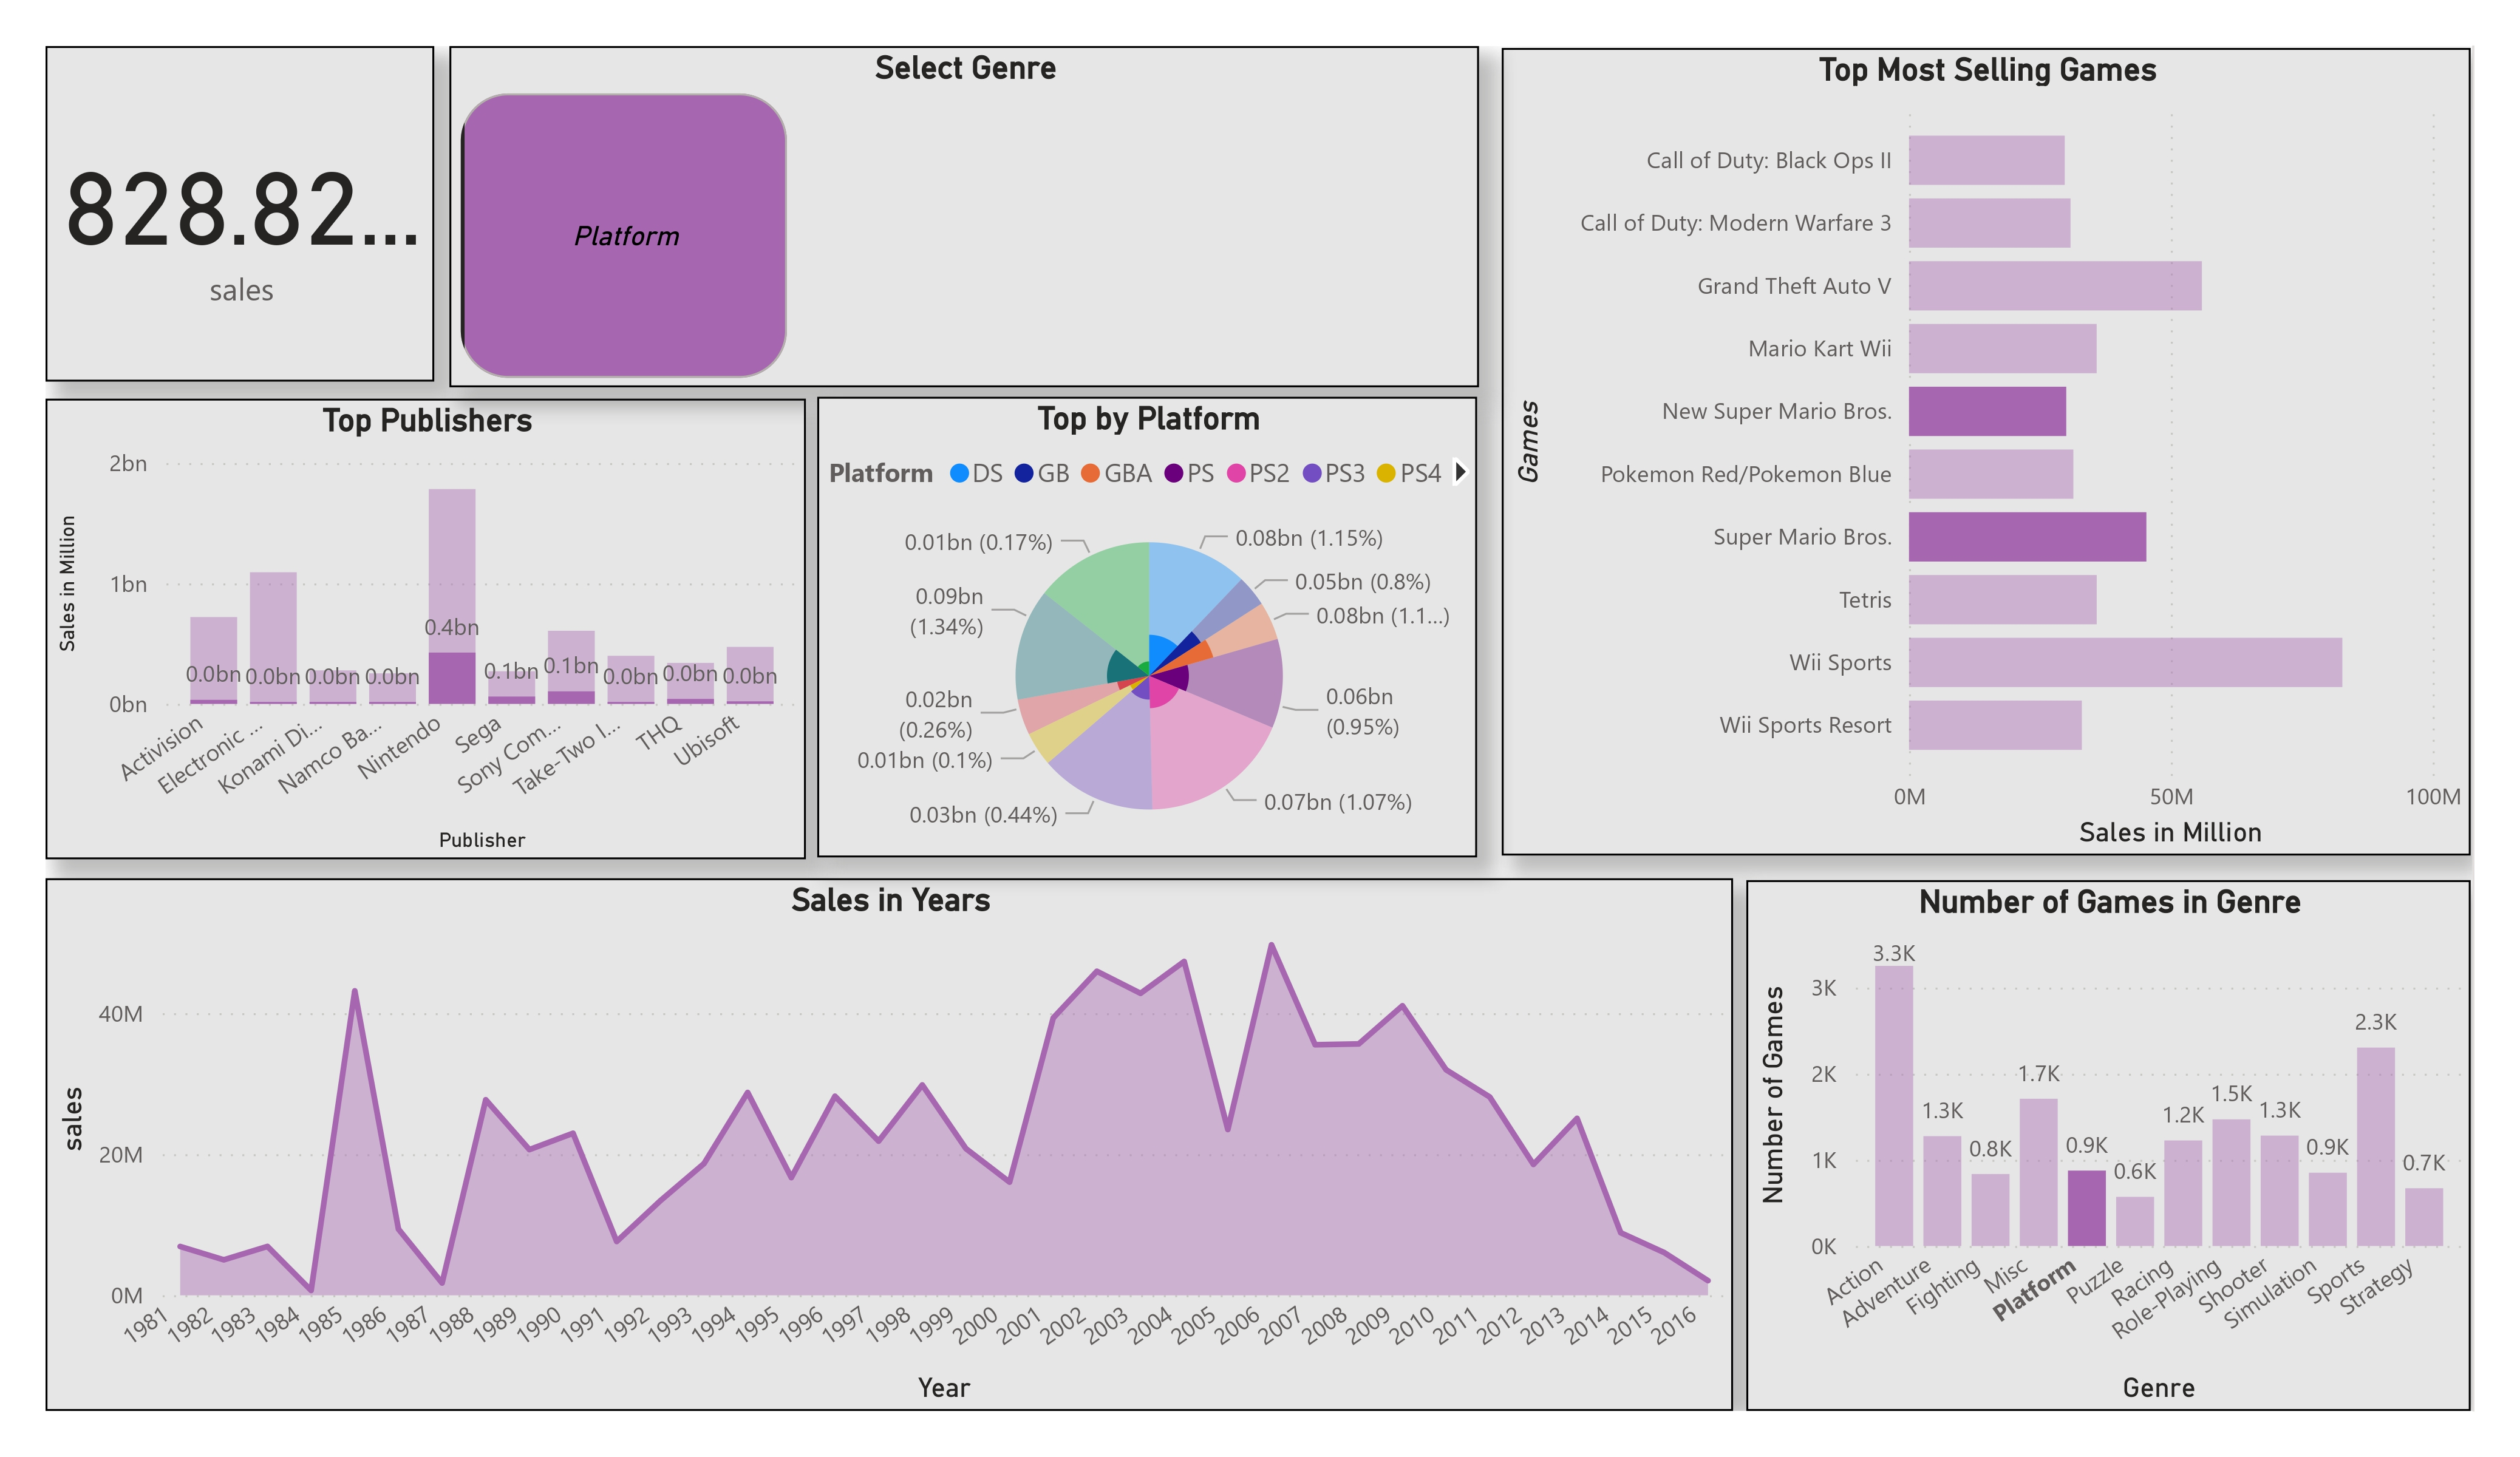

Layout of this report page (visuals, bound fields, positions):
{"tool":"powerbi","page":{"name":"Page 1","canvas":[1280,720],"ordinal":0},"visuals":[{"type":"barChart","title":"Top Most Selling Games","fields":{"Category":["vgsales.Name"],"Y":["vgsales.sales"]},"box":[767.9,1.1,511.6,426.1],"z":0},{"type":"card","fields":{"Values":["vgsales.sales"]},"box":[0,0,204.6,177.5],"z":1000},{"type":"columnChart","title":"Top Publishers","fields":{"Category":["vgsales.Publisher"],"Y":["vgsales.sales"]},"box":[0,186.3,401.3,243],"z":2000},{"type":"areaChart","title":"Sales in Years","fields":{"Category":["vgsales.Year"],"Y":["vgsales.sales"]},"box":[0,438.6,889.5,281.4],"z":3000},{"type":"advancedSlicerVisual","title":"Select Genre","fields":{"Values":["vgsales.Genre"]},"box":[212.9,0,543.2,179.7],"z":4000},{"type":"pieChart","title":"Top by Platform","fields":{"Category":["vgsales.Platform"],"Y":["vgsales.sales"]},"box":[406.7,185.1,348.1,243],"z":5000},{"type":"columnChart","title":"Number of Games in  Genre","fields":{"Category":["vgsales.Genre"],"Y":["CountNonNull(vgsales.Name)"]},"box":[897.5,440.4,382,279.6],"z":6000}]}

Visuals, with their boxes on the page's 1280x720 design canvas (x1, y1, x2, y2). These are canvas units, not pixel positions in the 2520x1457 screenshot, which may show the page scaled, cropped or inside an application window:
"Top Most Selling Games" barChart: (768, 1, 1280, 427)
card - vgsales.sales: (0, 0, 205, 178)
"Top Publishers" columnChart: (0, 186, 401, 429)
"Sales in Years" areaChart: (0, 439, 890, 720)
"Select Genre" advancedSlicerVisual: (213, 0, 756, 180)
"Top by Platform" pieChart: (407, 185, 755, 428)
"Number of Games in  Genre" columnChart: (898, 440, 1280, 720)
